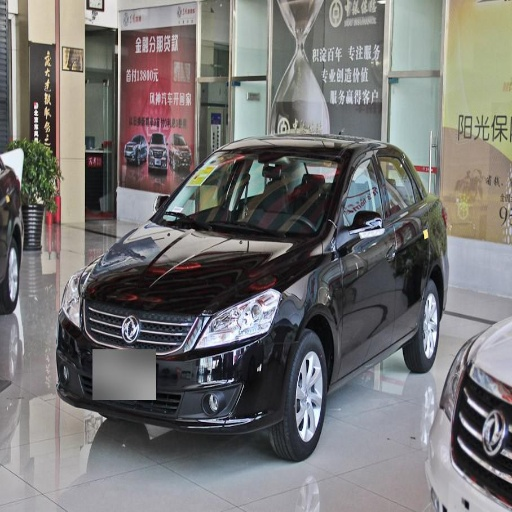front_bumper: (61, 297, 291, 434)
front_glass: (152, 146, 342, 239)
front_left_door: (340, 149, 397, 373)
